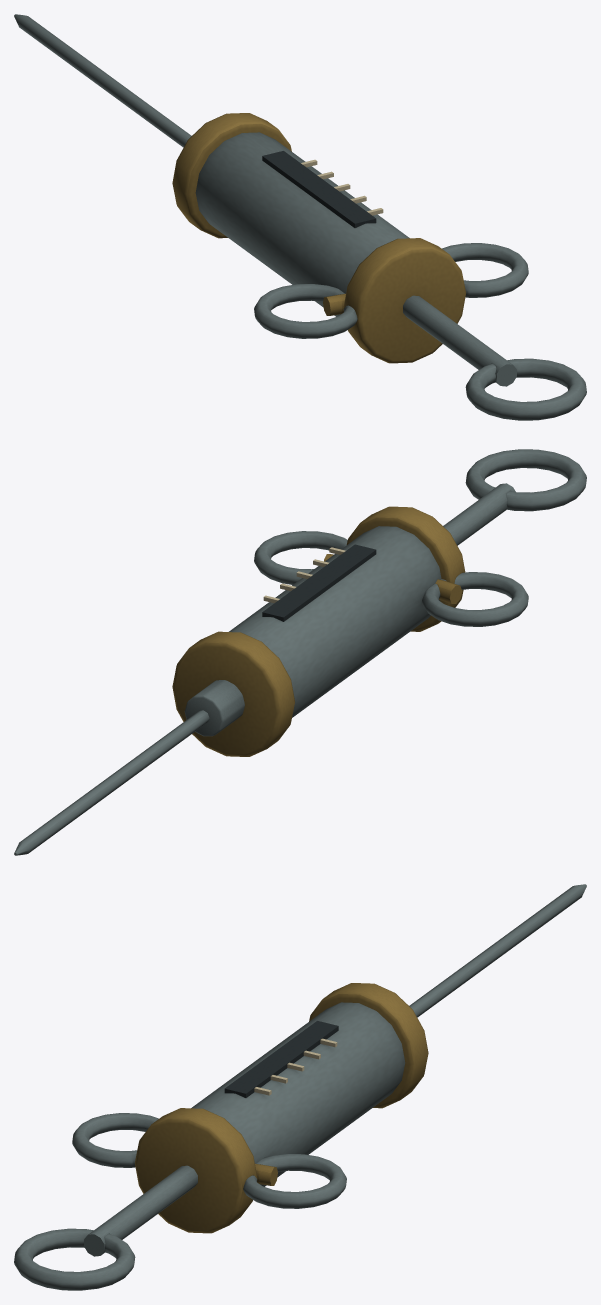
Rendered from spritz.glb.
The picture shows the model from 3 angles, top to bottom: view 1: azimuth 30°, elevation 25°; view 2: azimuth 150°, elevation 25°; view 3: azimuth 330°, elevation 25°; orthographic projection.
Parts seen in each view (by area): view 1: Spritz barrel, Spritz collar, Thumb ring, Spritz collar.001, Finger ring, Spritz_Needle, Plunger shaft, Dose window, Finger ring.001; view 2: Spritz barrel, Spritz collar.001, Thumb ring, Spritz_Needle, Spritz collar, Finger ring, Dose window, Finger ring.001, Spritz nozzle, Plunger shaft; view 3: Spritz barrel, Spritz collar, Thumb ring, Spritz collar.001, Finger ring.001, Spritz_Needle, Plunger shaft, Finger ring, Dose window.
Boxes of the visible parts, x1,y1,x2,y2 form: Spritz barrel: (195,132,409,316); Spritz collar: (343,238,465,363); Thumb ring: (465,358,586,420); Spritz collar.001: (172,113,291,238); Finger ring: (254,284,357,338); Spritz_Needle: (14,14,191,147); Plunger shaft: (403,295,516,386); Dose window: (262,151,376,227); Finger ring.001: (442,243,528,297); Spritz barrel: (229,526,441,717); Spritz collar.001: (172,631,294,756); Thumb ring: (465,449,586,511); Spritz_Needle: (14,710,209,855); Spritz collar: (346,506,465,631); Finger ring: (422,572,528,626); Dose window: (262,544,376,621); Finger ring.001: (254,531,347,584); Spritz nozzle: (184,680,244,736); Plunger shaft: (443,483,515,545); Spritz barrel: (191,1002,405,1186); Spritz collar: (135,1108,257,1233); Thumb ring: (14,1228,135,1290); Spritz collar.001: (309,983,428,1108); Finger ring.001: (243,1154,346,1208); Spritz_Needle: (409,884,586,1017); Plunger shaft: (84,1165,197,1256); Finger ring: (72,1113,158,1167); Dose window: (224,1021,338,1097).
Size of the model in its own units: 0.1463 by 0.062 by 0.5256.
Materials: 1 (1 with a texture image).
